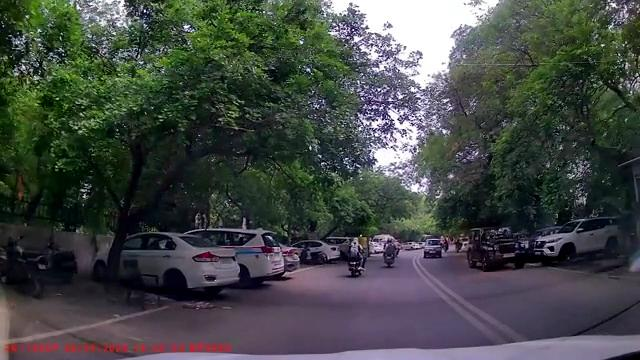motorcycle_with_helmet: (345, 236, 368, 278)
